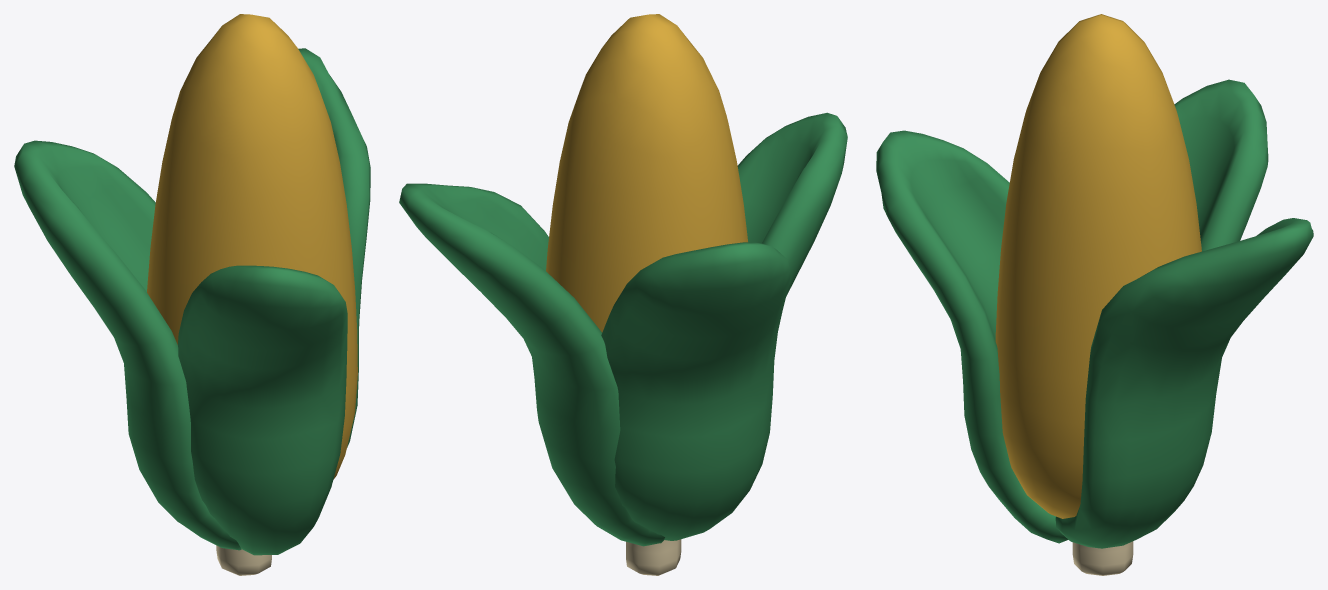
Rendered from Cornsimple_02.dae.
The picture shows the model from 3 angles, left to right: view 1: azimuth 30°, elevation 25°; view 2: azimuth 150°, elevation 25°; view 3: azimuth 270°, elevation 25°; orthographic projection.
Visible parts, largest first — view 1: Cornsimple_02_LOD0; view 2: Cornsimple_02_LOD0; view 3: Cornsimple_02_LOD0.
Boxes of the visible parts, x1=… form: Cornsimple_02_LOD0: x1=14, y1=14, x2=370, y2=575; Cornsimple_02_LOD0: x1=399, y1=14, x2=847, y2=575; Cornsimple_02_LOD0: x1=876, y1=14, x2=1313, y2=575.
Size of what is drawn, in the model's own units: 4.22 by 4.72 by 6.64.
